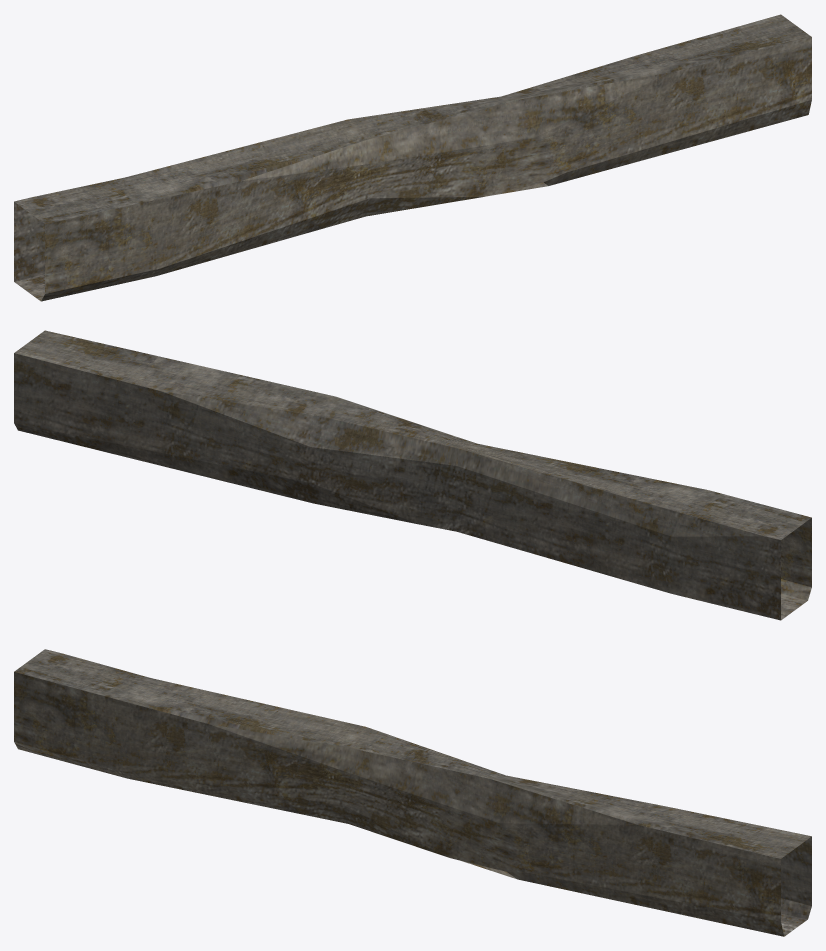
Rendered from gate_beam.fbx.
The picture shows the model from 3 angles, top to bottom: view 1: azimuth 30°, elevation 25°; view 2: azimuth 150°, elevation 25°; view 3: azimuth 330°, elevation 25°; orthographic projection.
Visible parts, largest first — view 1: gate_beam; view 2: gate_beam; view 3: gate_beam.
Part boxes in pixels (x1,y1,x2,y2): gate_beam: [14, 14, 811, 301]; gate_beam: [14, 330, 811, 620]; gate_beam: [14, 649, 811, 936].
Bounding box in the file's own units: 200 × 22.84 × 15.44.
